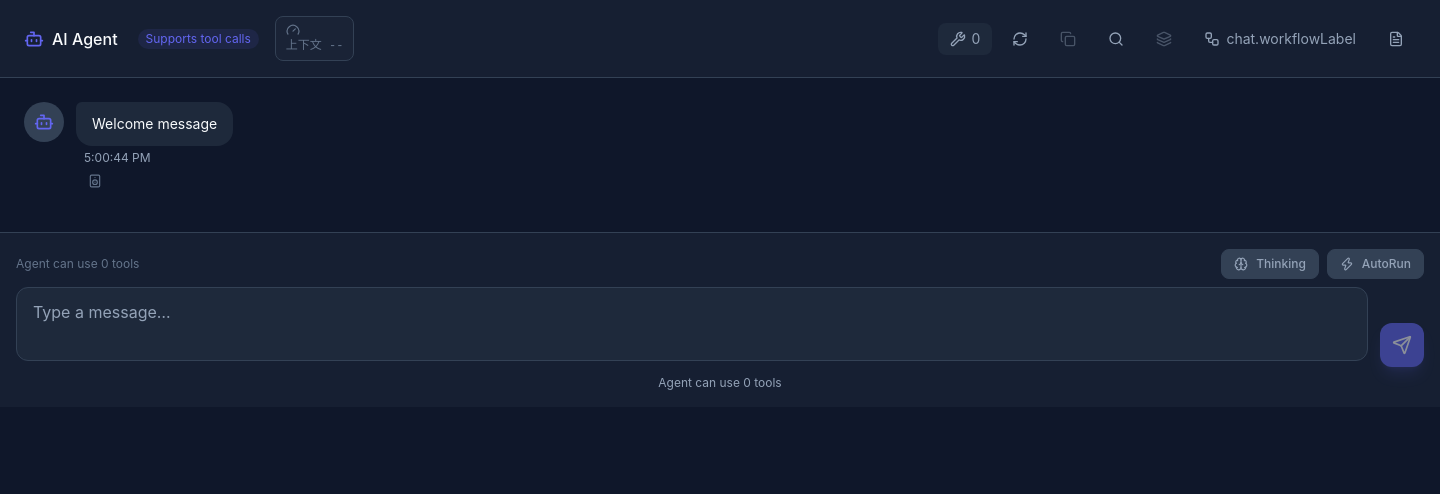
Test: AgentChat › shows Searching… while search is in progress
Click the button titled "Search conversation": (1116, 38) x1=1096 y1=24 x2=1136 y2=52
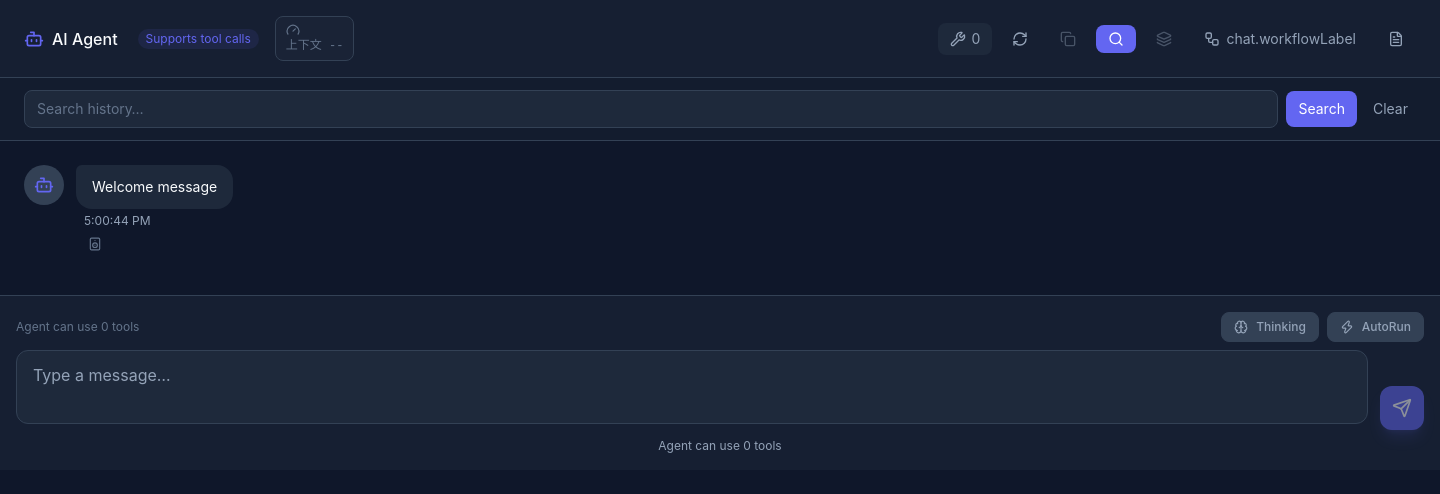
In the field with placeholder "Search history…": (651, 109) x1=24 y1=90 x2=1278 y2=128, type "foo"
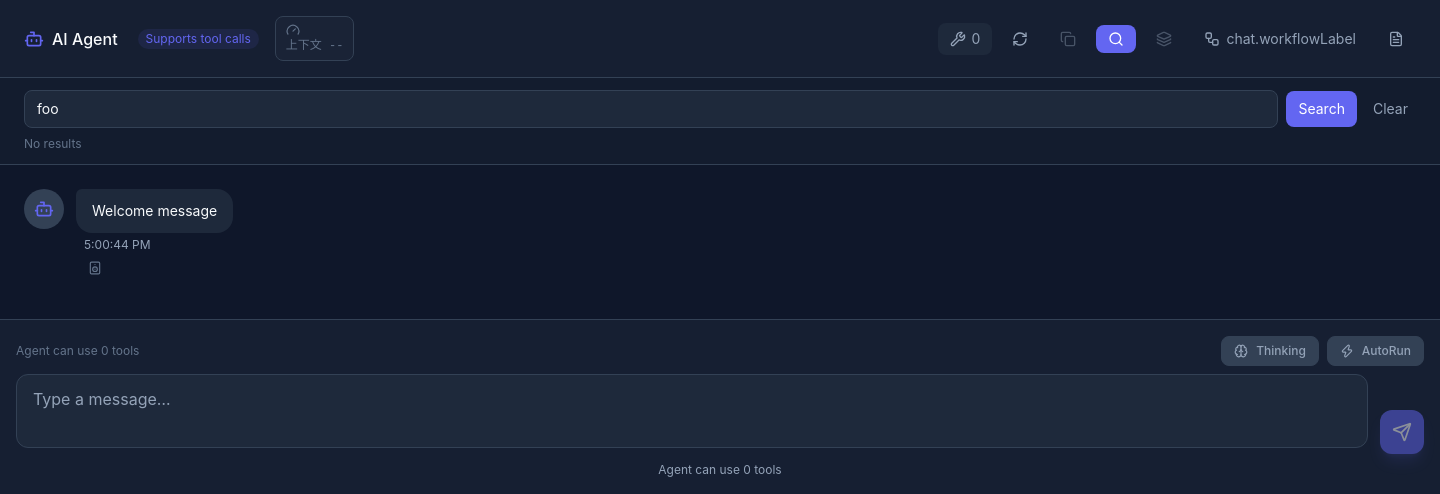
Click the button "Search": (1322, 109) x1=1286 y1=91 x2=1357 y2=127
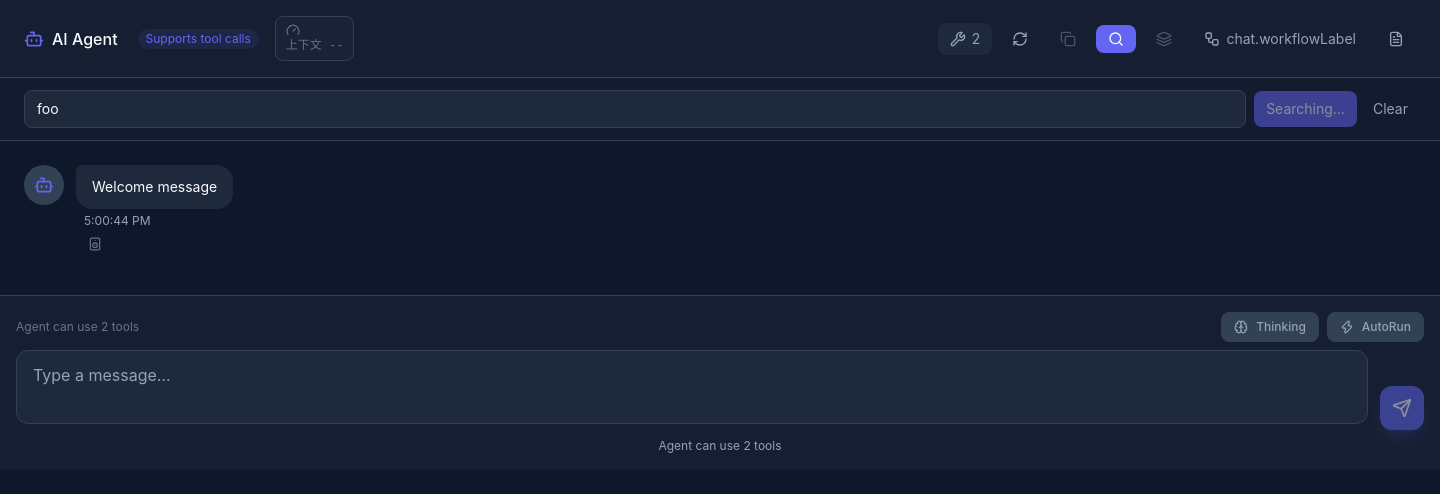
Expected: the button "Searching…" is shown, x1=1254 y1=91 x2=1357 y2=127
